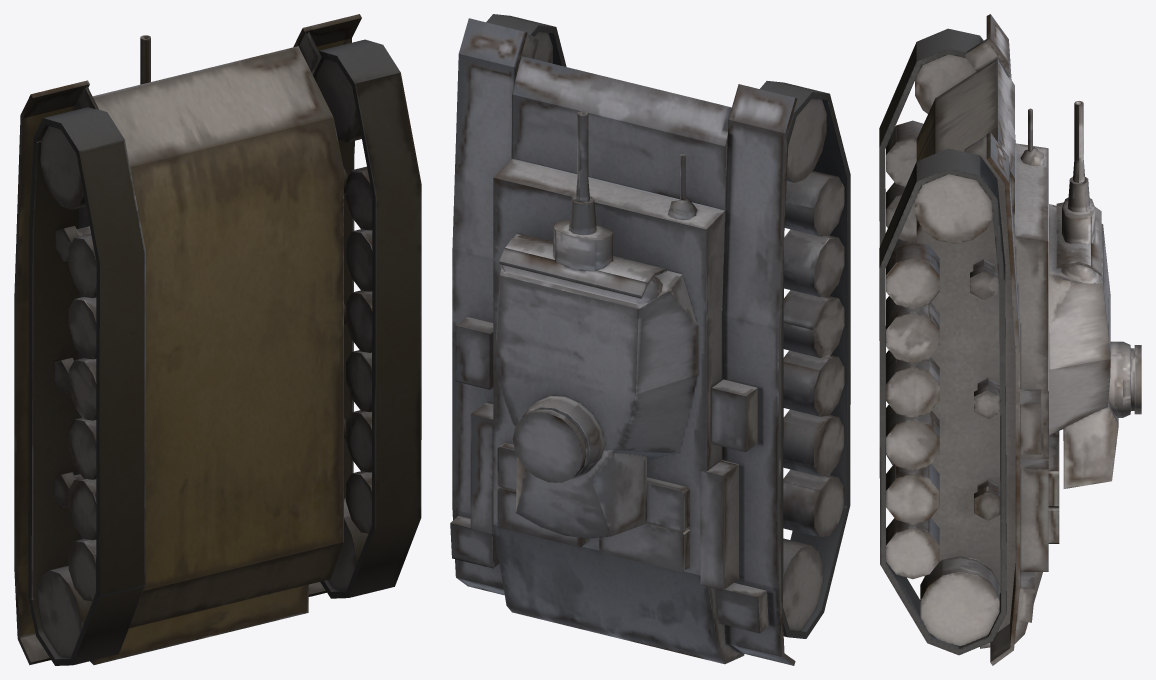
The model's file is Pz.III_J1.fbx.
3 views of the same model, side by side, from view 1: azimuth 30°, elevation 25°; view 2: azimuth 150°, elevation 25°; view 3: azimuth 270°, elevation 25° (orthographic). The views are drawn at different scales.
Visible parts, largest first — view 1: Pz.III_J1_Body; view 2: Pz.III_J1_Body, Pz.III_J1_Turret; view 3: Pz.III_J1_Body, Pz.III_J1_Turret.
Boxes of the visible parts, x1=… form: Pz.III_J1_Body: x1=14, y1=14, x2=421, y2=665; Pz.III_J1_Body: x1=450, y1=14, x2=850, y2=665; Pz.III_J1_Turret: x1=494, y1=111, x2=697, y2=538; Pz.III_J1_Body: x1=879, y1=14, x2=1059, y2=665; Pz.III_J1_Turret: x1=1049, y1=101, x2=1141, y2=488.
Size of the model in its own units: 112 by 190 by 87.22.
